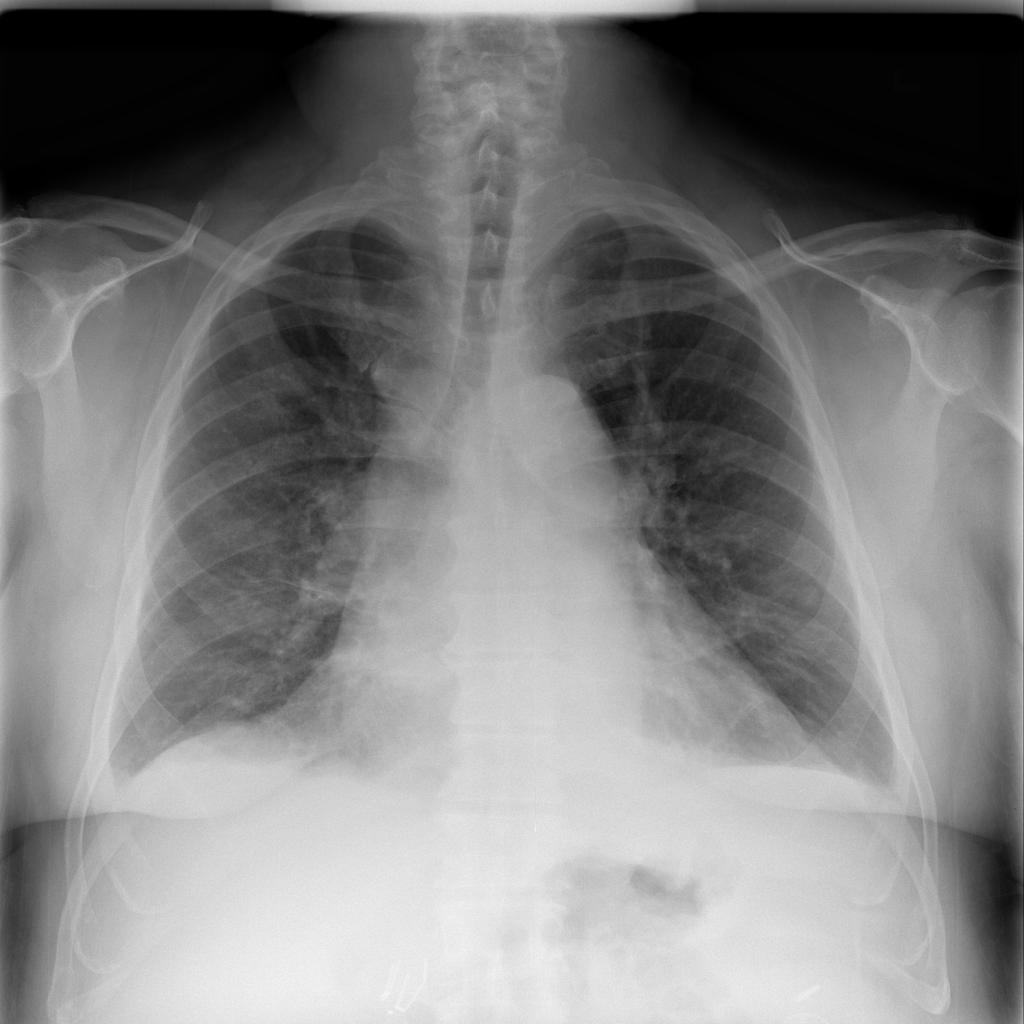nodule: (783, 571, 836, 621)
